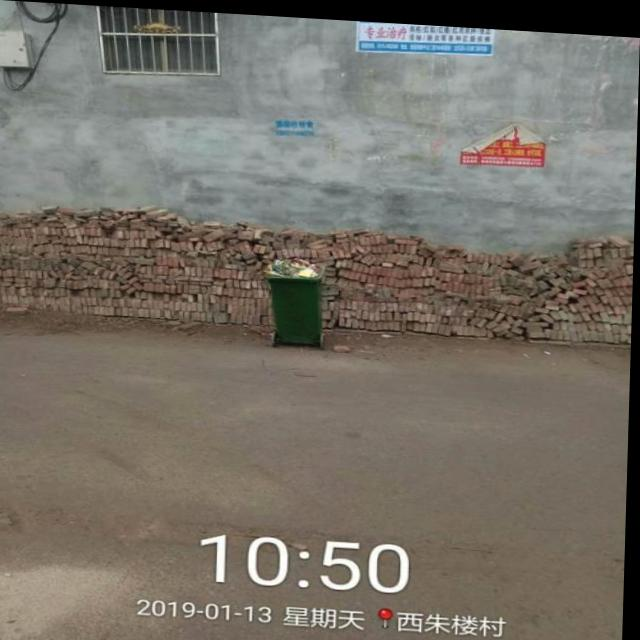overflow: (261, 250, 326, 340)
